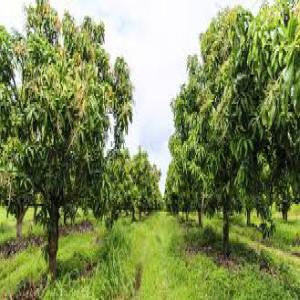Tree: (0, 0, 137, 275), (167, 4, 298, 259)
